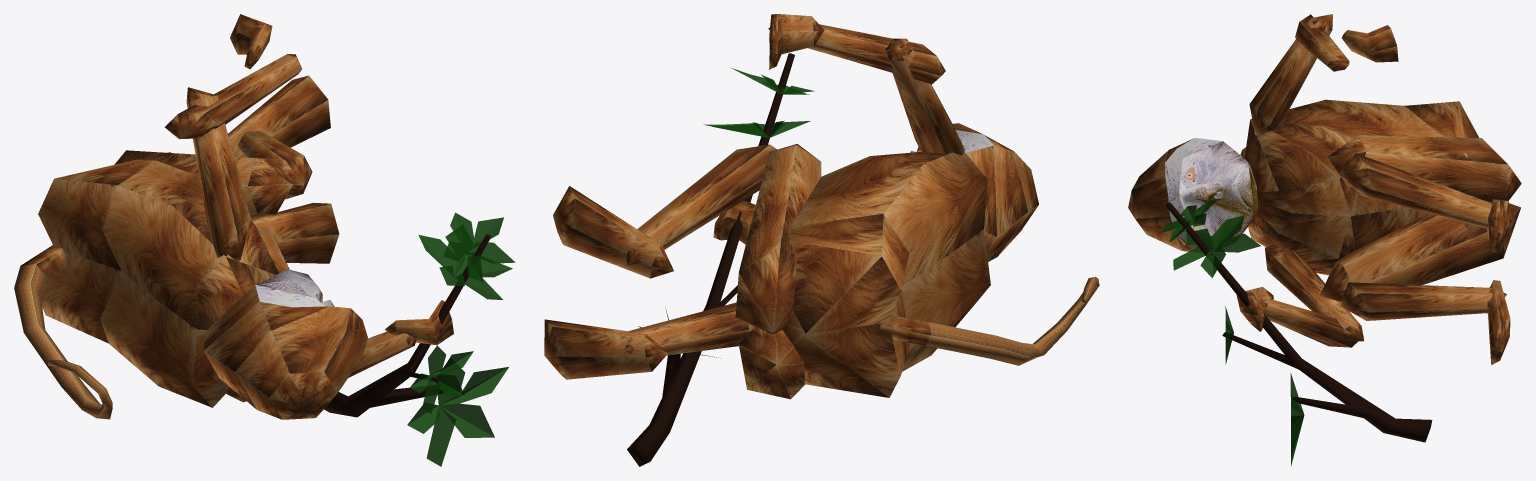
The model's file is monkey_000712.obj.
The picture shows the model from 3 angles, left to right: view 1: azimuth 30°, elevation 25°; view 2: azimuth 150°, elevation 25°; view 3: azimuth 270°, elevation 25°; orthographic projection. The views are drawn at different scales.
Visible parts, largest first — view 1: Cylinder_Cylinder.001, head.002_Sphere.002, Cylinder.008_Cylinder.009, Cylinder.013_Cylinder, Cylinder.006_Cylinder.007, leaf1_Cylinder.019, Cylinder.009_Cylinder.011, Cylinder.005_Cylinder.006, Cylinder.001_Cylinder.002, branch_Cylinder.020, leaf4_Cylinder.023, Cylinder.004_Cylinder.005 (+6 smaller); view 2: Cylinder_Cylinder.001, Cylinder.001_Cylinder.002, Cylinder.004_Cylinder.005, head.002_Sphere.002, Cylinder.005_Cylinder.006, Cylinder.006_Cylinder.007, branch_Cylinder.020, Cylinder.013_Cylinder, Cylinder.008_Cylinder.009, Cylinder.002_Cylinder.003, Cylinder.003_Cylinder.004, Cylinder.009_Cylinder.011 (+3 smaller); view 3: Cylinder_Cylinder.001, head.002_Sphere.002, Cylinder.002_Cylinder.003, Cylinder.001_Cylinder.002, branch_Cylinder.020, Cylinder.004_Cylinder.005, Cylinder.003_Cylinder.004, Cylinder.008_Cylinder.009, Cylinder.011_Cylinder.013, Cylinder.010_Cylinder.012, leaf3_Cylinder.022, Cylinder.007_Cylinder.008 (+6 smaller).
Part boxes in pixels (x1=…): Cylinder_Cylinder.001: x1=38, y1=152, x2=278, y2=407; head.002_Sphere.002: x1=203, y1=269, x2=367, y2=419; Cylinder.008_Cylinder.009: x1=186, y1=87, x2=250, y2=260; Cylinder.013_Cylinder: x1=14, y1=245, x2=112, y2=419; Cylinder.006_Cylinder.007: x1=228, y1=75, x2=330, y2=157; leaf1_Cylinder.019: x1=407, y1=365, x2=508, y2=466; Cylinder.009_Cylinder.011: x1=164, y1=54, x2=302, y2=139; Cylinder.005_Cylinder.006: x1=251, y1=202, x2=339, y2=263; Cylinder.001_Cylinder.002: x1=114, y1=150, x2=292, y2=219; branch_Cylinder.020: x1=324, y1=234, x2=490, y2=417; leaf4_Cylinder.023: x1=443, y1=212, x2=515, y2=281; Cylinder.004_Cylinder.005: x1=237, y1=131, x2=312, y2=199; Cylinder_Cylinder.001: x1=748, y1=151, x2=990, y2=397; Cylinder.001_Cylinder.002: x1=735, y1=144, x2=821, y2=334; Cylinder.004_Cylinder.005: x1=626, y1=144, x2=776, y2=265; head.002_Sphere.002: x1=910, y1=123, x2=1038, y2=261; Cylinder.005_Cylinder.006: x1=544, y1=319, x2=667, y2=379; Cylinder.006_Cylinder.007: x1=553, y1=186, x2=673, y2=278; branch_Cylinder.020: x1=627, y1=53, x2=794, y2=466; Cylinder.013_Cylinder: x1=880, y1=276, x2=1099, y2=365; Cylinder.008_Cylinder.009: x1=885, y1=38, x2=964, y2=155; Cylinder.002_Cylinder.003: x1=738, y1=327, x2=804, y2=399; Cylinder.003_Cylinder.004: x1=625, y1=302, x2=749, y2=355; Cylinder.009_Cylinder.011: x1=768, y1=24, x2=945, y2=84; Cylinder_Cylinder.001: x1=1244, y1=99, x2=1478, y2=275; head.002_Sphere.002: x1=1128, y1=137, x2=1257, y2=251; Cylinder.002_Cylinder.003: x1=1320, y1=203, x2=1520, y2=301; Cylinder.001_Cylinder.002: x1=1328, y1=135, x2=1521, y2=202; branch_Cylinder.020: x1=1166, y1=202, x2=1432, y2=442; Cylinder.004_Cylinder.005: x1=1340, y1=153, x2=1511, y2=228; Cylinder.003_Cylinder.004: x1=1340, y1=282, x2=1506, y2=320; Cylinder.008_Cylinder.009: x1=1249, y1=14, x2=1332, y2=135; Cylinder.011_Cylinder.013: x1=1265, y1=245, x2=1363, y2=341; Cylinder.010_Cylinder.012: x1=1258, y1=299, x2=1363, y2=347; leaf3_Cylinder.022: x1=1173, y1=215, x2=1260, y2=277; Cylinder.007_Cylinder.008: x1=1341, y1=25, x2=1398, y2=62.
Size of the model in its own units: 1.52 by 1.41 by 1.35.
